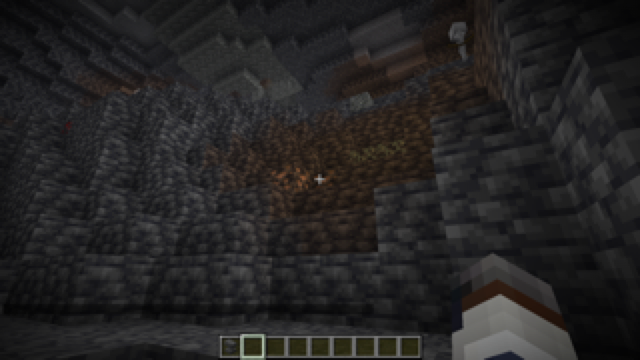iron: (267, 164, 339, 198)
